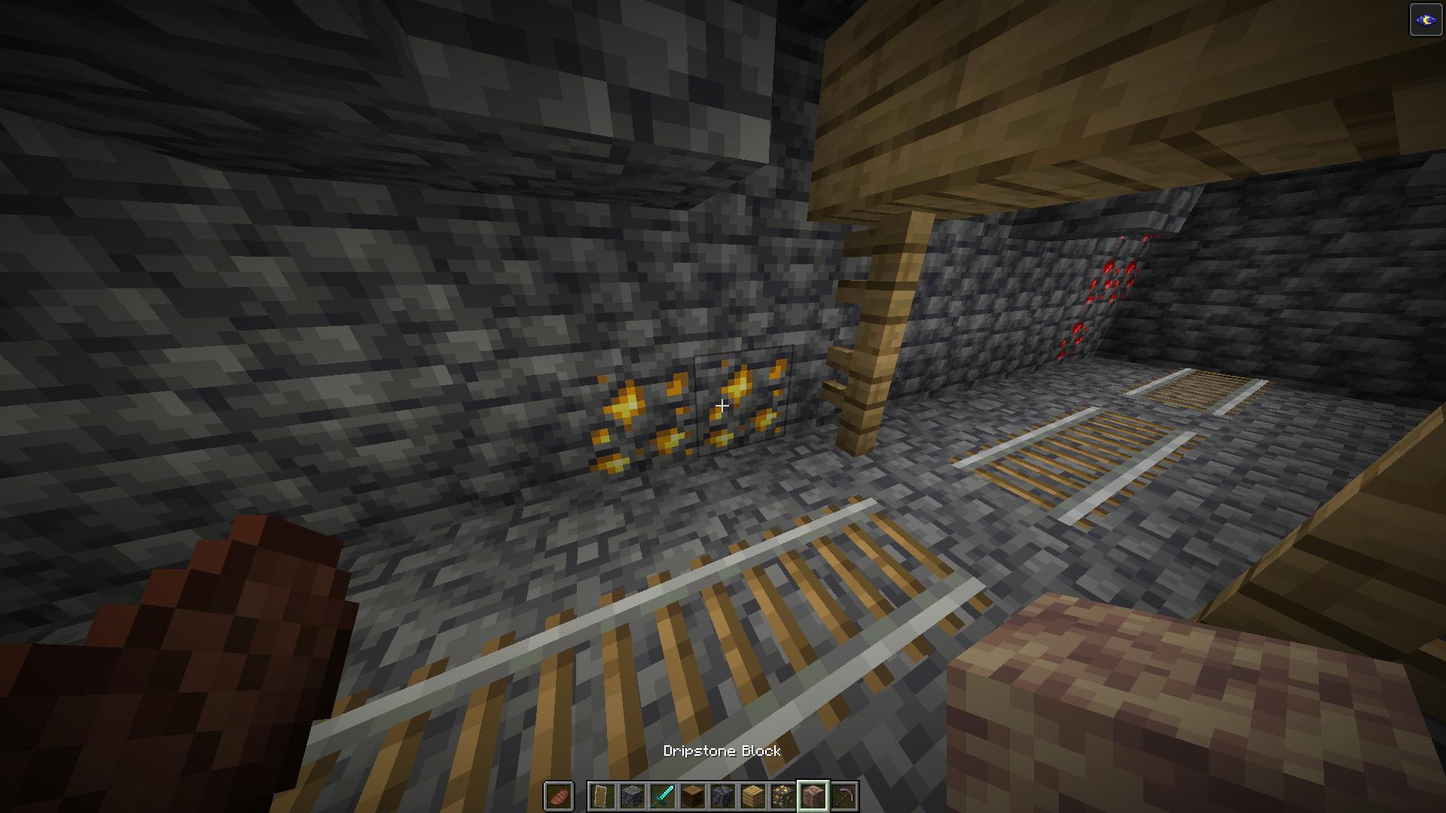gold ore: (589, 363, 694, 469), (698, 352, 783, 446)
redstone ore: (1092, 260, 1134, 304), (1054, 318, 1092, 362)
